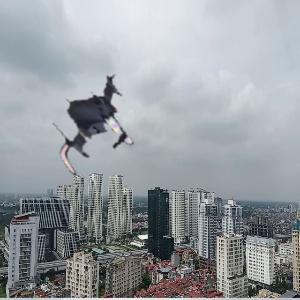drone: (43, 73, 151, 181)
